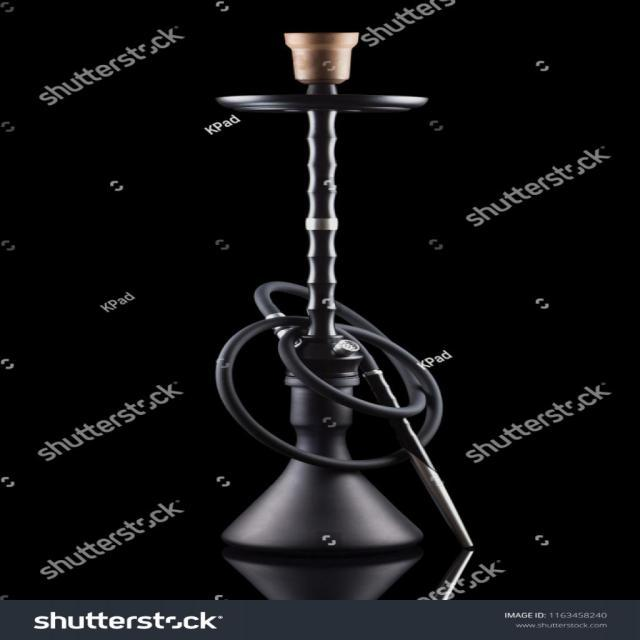smoking: (203, 26, 476, 608)
